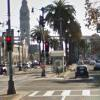Crosswalk: (14, 67, 100, 100)
